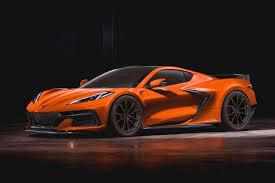car: (19, 57, 260, 141)
